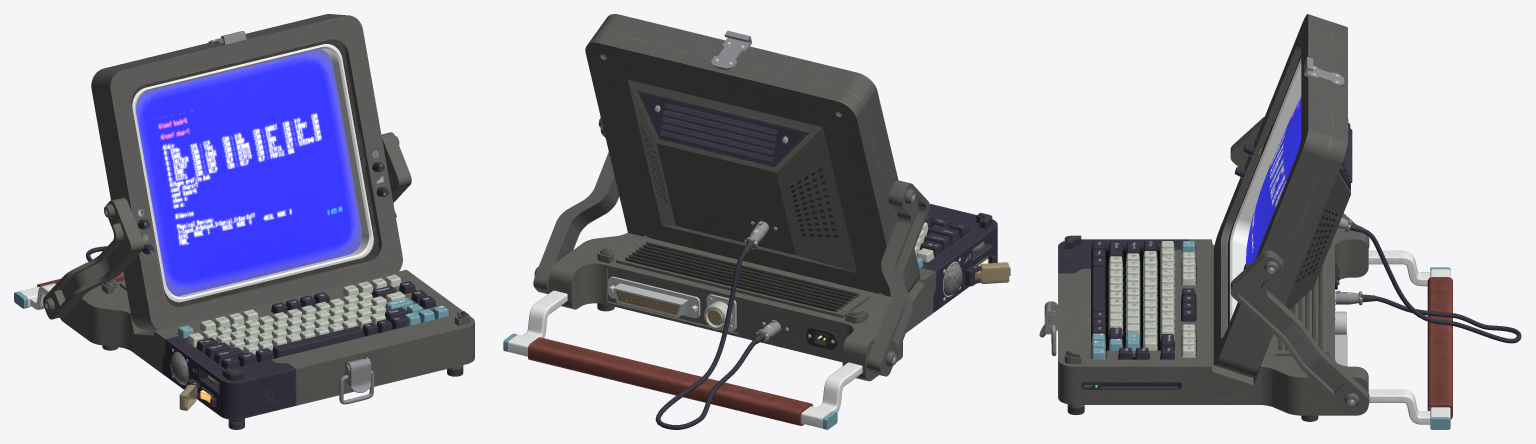
Rendered from sci_fi_laptop_alternative_90s_optimized.glb.
The picture shows the model from 3 angles, left to right: view 1: azimuth 30°, elevation 25°; view 2: azimuth 150°, elevation 25°; view 3: azimuth 270°, elevation 25°; orthographic projection. The views are drawn at different scales.
Visible parts, largest first — view 1: Laptop_Export; view 2: Laptop_Export; view 3: Laptop_Export.
Boxes of the visible parts, x1,y1,x2,y2 form: Laptop_Export: (14,14,474,429); Laptop_Export: (503,14,1010,429); Laptop_Export: (1039,14,1521,429).
Size of the model in its own units: 0.4722 by 0.3854 by 0.5725.
Materials: 1 (1 with a texture image).
